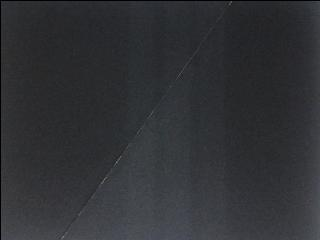crack: (59, 0, 237, 240)
